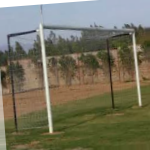goals: (6, 21, 143, 135)
